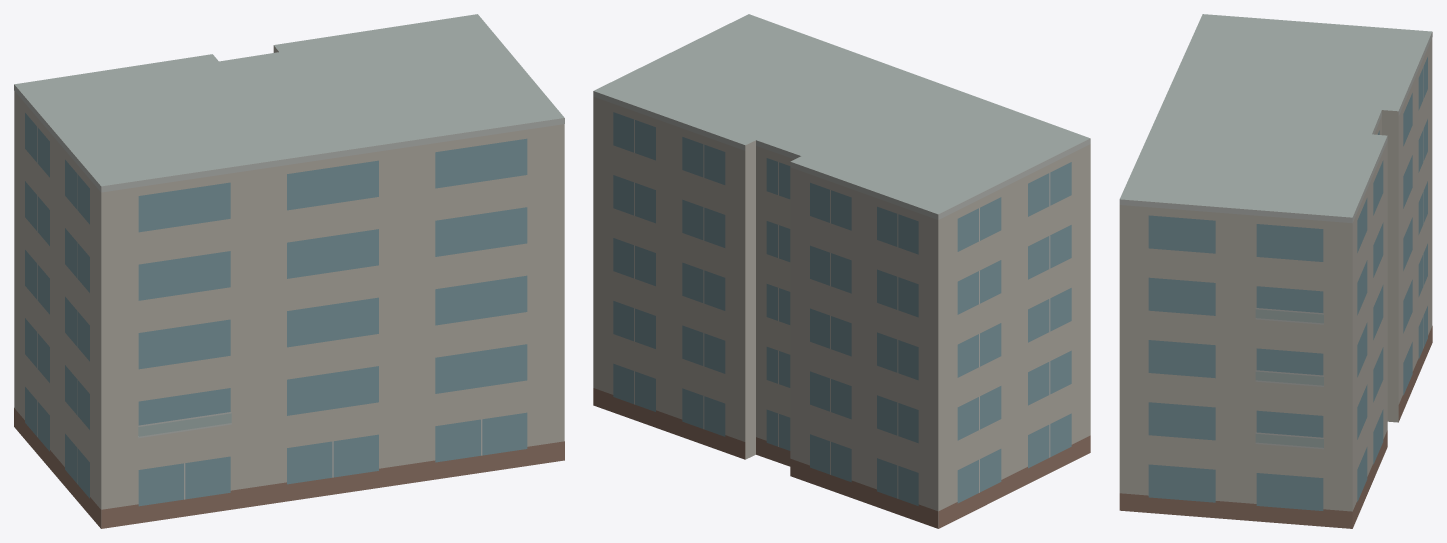
The model's file is survey-upis-32998073.glb.
3 renders of one model, left to right at view 1: azimuth 30°, elevation 25°; view 2: azimuth 150°, elevation 25°; view 3: azimuth 270°, elevation 25°, orthographic. The views are drawn at different scales.
Parts seen in each view (by area): view 1: survey-upis-32998073.tmp; view 2: survey-upis-32998073.tmp; view 3: survey-upis-32998073.tmp.
Boxes of the visible parts, x1=… form: survey-upis-32998073.tmp: x1=14, y1=14, x2=564, y2=528; survey-upis-32998073.tmp: x1=593, y1=14, x2=1090, y2=528; survey-upis-32998073.tmp: x1=1119, y1=14, x2=1432, y2=528.
Bounding box in the file's own units: 19.09 × 13.6 × 12.4.
